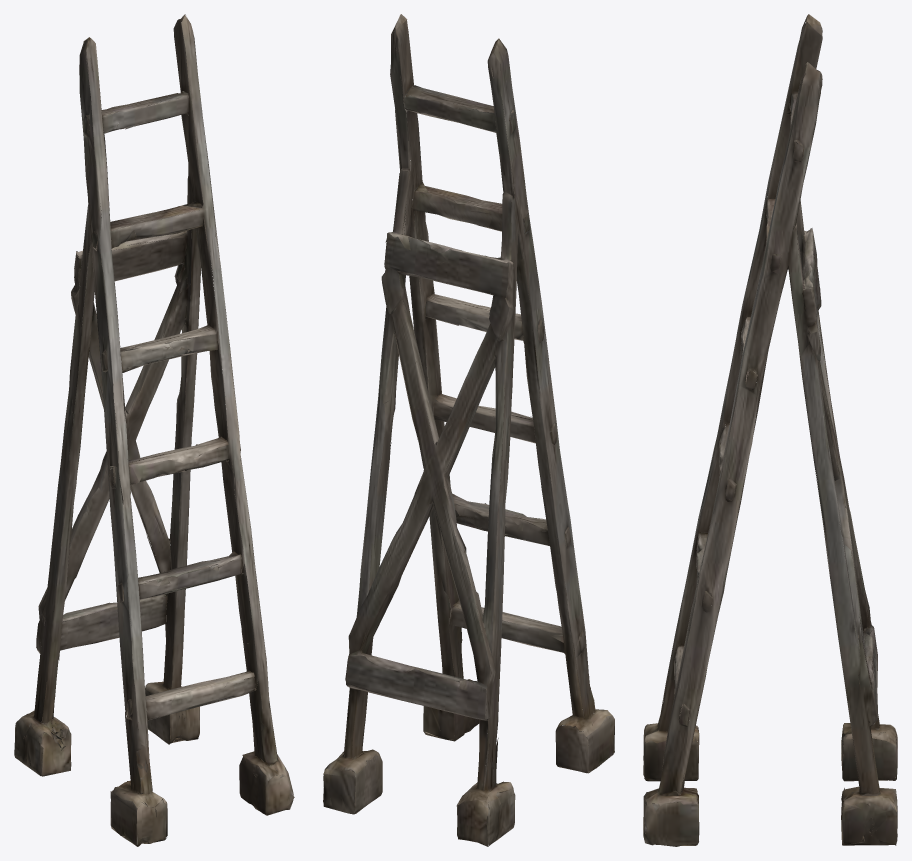
Rendered from work-ladder.glb.
3 views of the same model, side by side, from view 1: azimuth 30°, elevation 25°; view 2: azimuth 150°, elevation 25°; view 3: azimuth 270°, elevation 25° (orthographic). The views are drawn at different scales.
Parts seen in each view (by area): view 1: Mesh_0; view 2: Mesh_0; view 3: Mesh_0.
Boxes of the visible parts, x1=… form: Mesh_0: x1=14, y1=14, x2=294, y2=846; Mesh_0: x1=323, y1=14, x2=614, y2=846; Mesh_0: x1=643, y1=14, x2=897, y2=846.
Size of the model in its own units: 0.4303 by 1.9 by 0.5699.
Materials: 1 (1 with a texture image).
